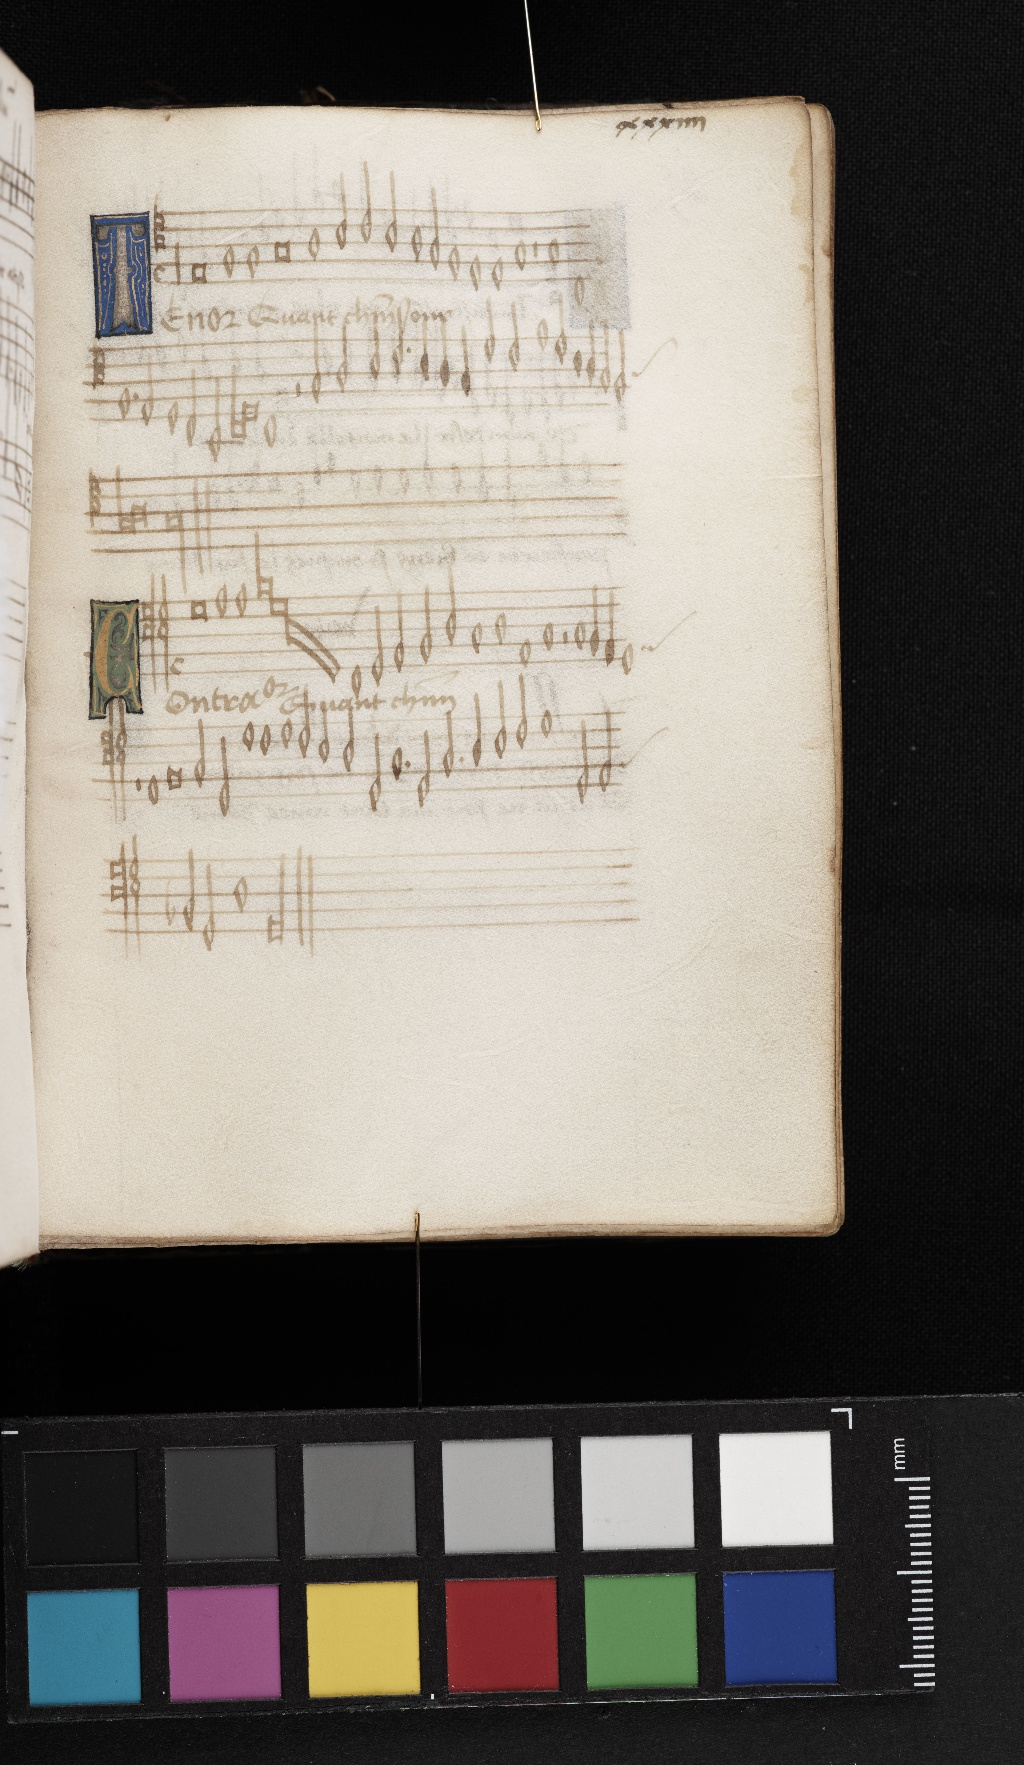breve_9: (161, 758, 190, 797)
custos_9: (612, 722, 668, 776)
f clef_5: (91, 714, 133, 812)
minim_10: (596, 709, 617, 801)
minim_11: (212, 733, 234, 820), (572, 720, 592, 808), (366, 736, 386, 814), (414, 733, 434, 811)
minim_5: (294, 687, 313, 765), (512, 681, 532, 757)
minim_6: (492, 687, 510, 765), (315, 707, 332, 768)
minim_7: (340, 707, 358, 775)
minim_8: (188, 716, 210, 795), (440, 713, 457, 783)
point: (453, 750, 468, 770), (401, 755, 414, 774)
semibreve rest: (130, 719, 141, 808)
semibreve_10: (144, 767, 162, 811)
semibreve_4: (238, 712, 258, 757), (277, 712, 296, 755), (536, 702, 556, 745)
semibreve_5: (257, 716, 274, 762)
semibreve_8: (386, 737, 408, 784)
semiminim_7: (467, 691, 486, 776)
